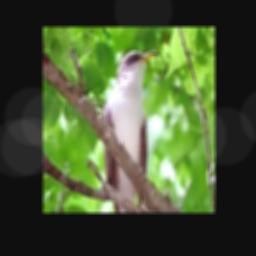Cuckoo: (102, 49, 157, 213)
